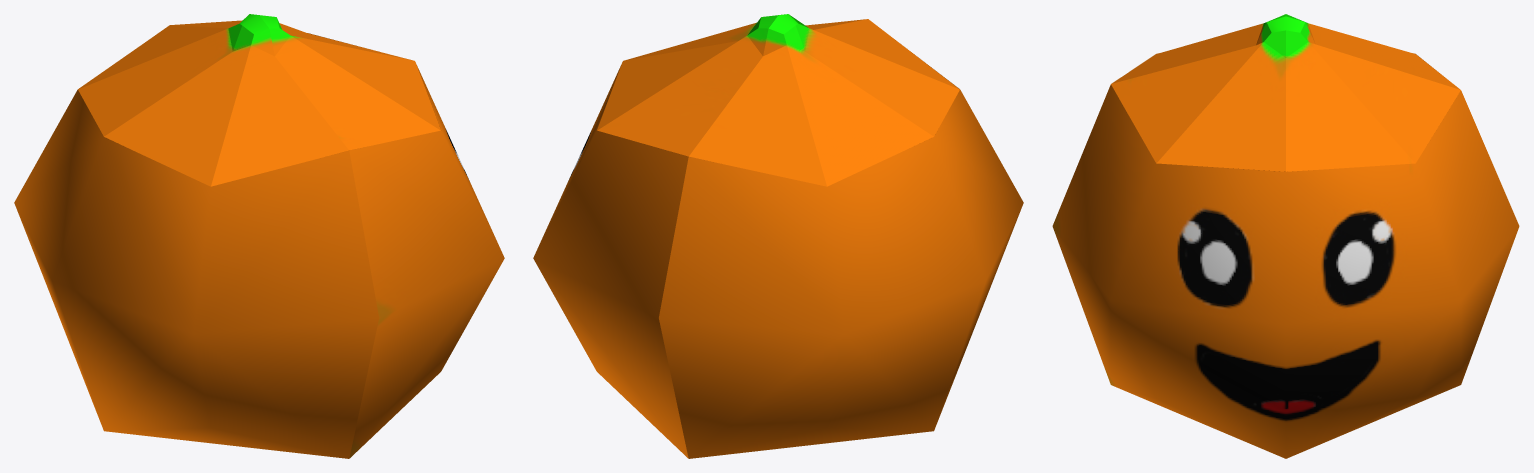
File: orangefinal(smiling).fbx
The picture shows the model from 3 angles, left to right: view 1: azimuth 30°, elevation 25°; view 2: azimuth 150°, elevation 25°; view 3: azimuth 270°, elevation 25°; orthographic projection. The views are drawn at different scales.
Parts seen in each view (by area): view 1: polySurface3; view 2: polySurface3; view 3: polySurface3.
Part boxes in pixels (box(x1,y1,x2,y2)): polySurface3: box(14, 14, 504, 458); polySurface3: box(533, 14, 1023, 458); polySurface3: box(1052, 14, 1519, 458).
Bounding box in the file's own units: 2.22 × 2.21 × 2.22.
